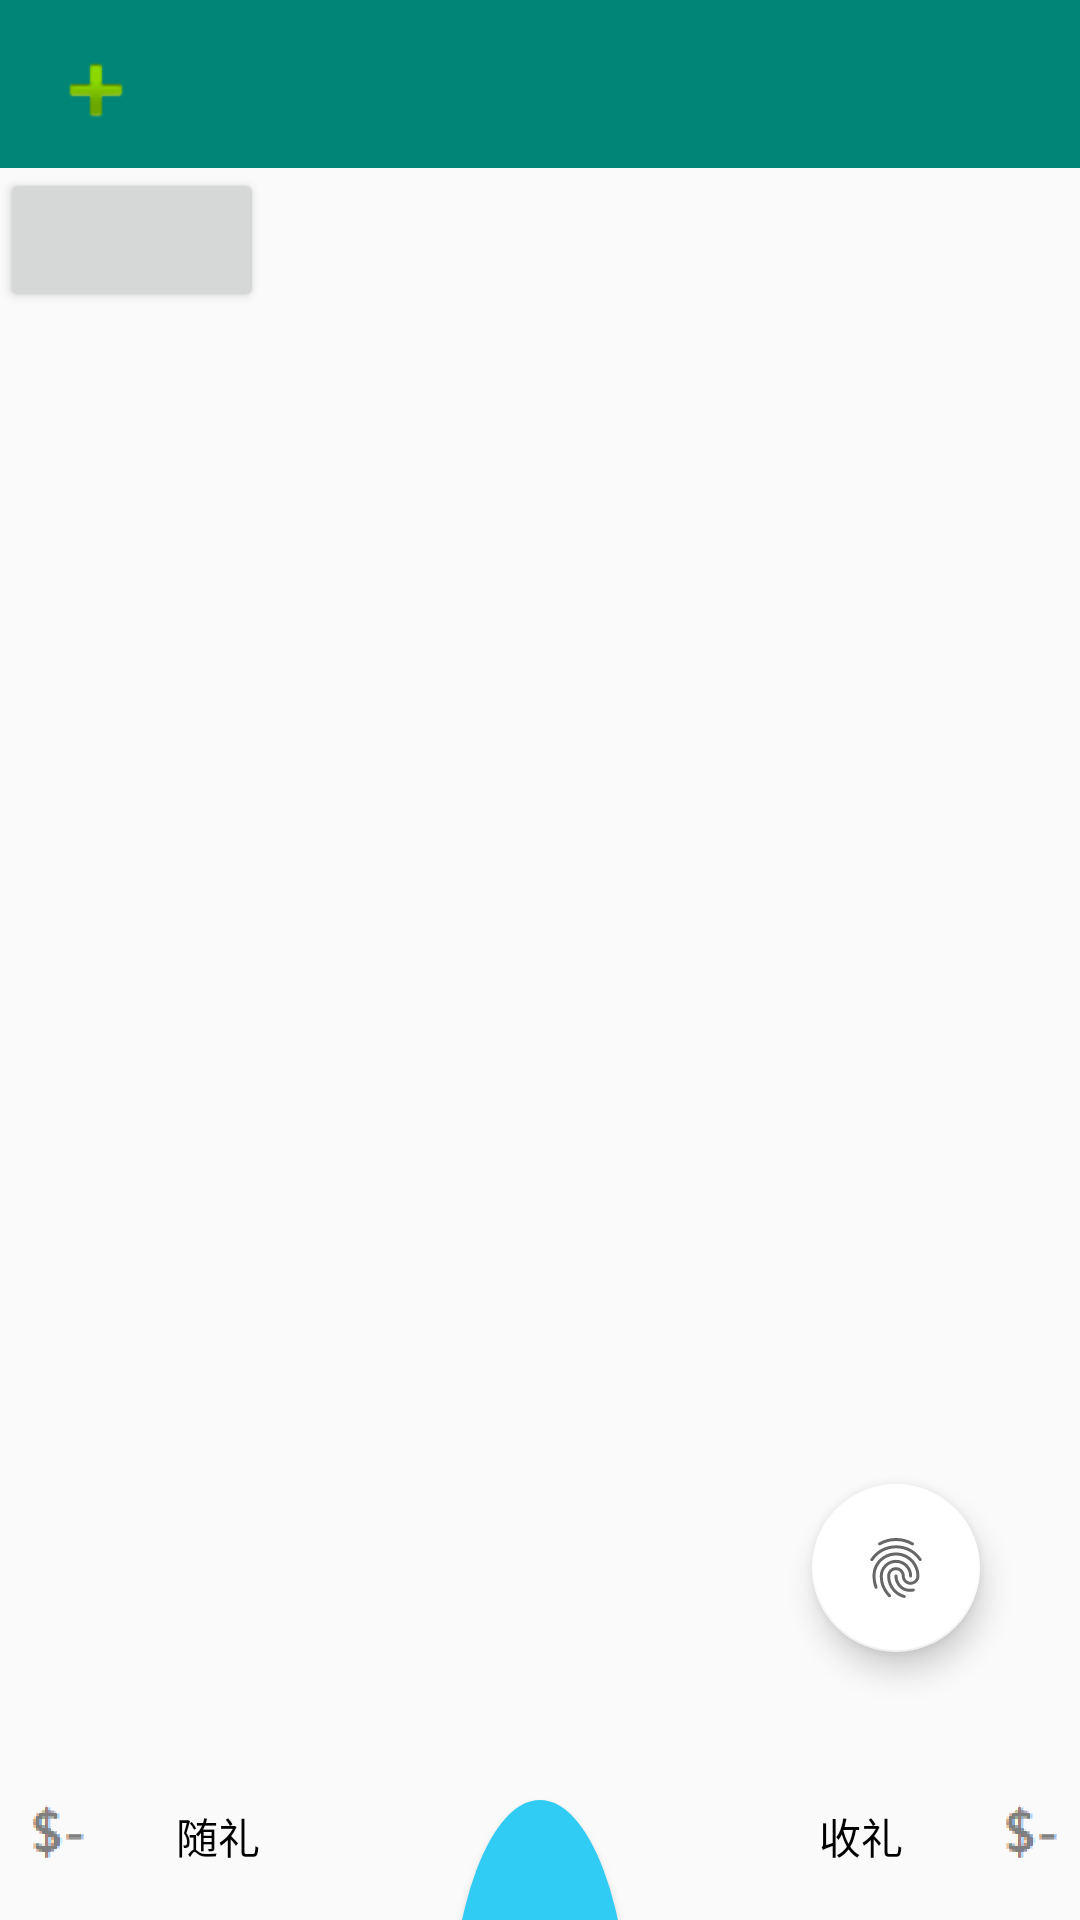

Locate icon controls on the screen. Image size 1080px×1920px, boxes as BBox(x1, y1, x2, y2).
add: BBox(69, 63, 123, 117)
